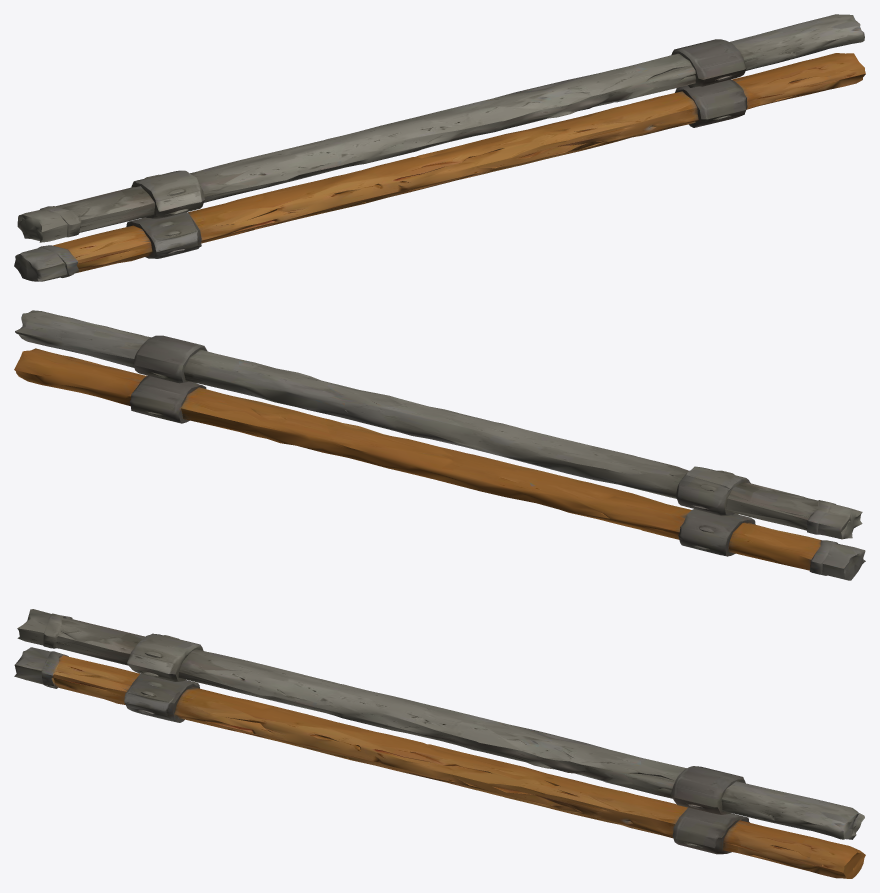
File: line_pipes_idle.glb
3 renders of one model, top to bottom at view 1: azimuth 30°, elevation 25°; view 2: azimuth 150°, elevation 25°; view 3: azimuth 330°, elevation 25°, orthographic.
Parts seen in each view (by area): view 1: tripo_node_8c0ceec7-3240-46ca-bbad-f71ccf3dcff8; view 2: tripo_node_8c0ceec7-3240-46ca-bbad-f71ccf3dcff8; view 3: tripo_node_8c0ceec7-3240-46ca-bbad-f71ccf3dcff8.
Boxes of the visible parts, x1,y1,x2,y2 form: tripo_node_8c0ceec7-3240-46ca-bbad-f71ccf3dcff8: (14,14,865,281); tripo_node_8c0ceec7-3240-46ca-bbad-f71ccf3dcff8: (14,310,865,580); tripo_node_8c0ceec7-3240-46ca-bbad-f71ccf3dcff8: (14,609,865,878).
Bounding box in the file's own units: 3 × 0.2498 × 0.1996.
1 material, 1 textured.
